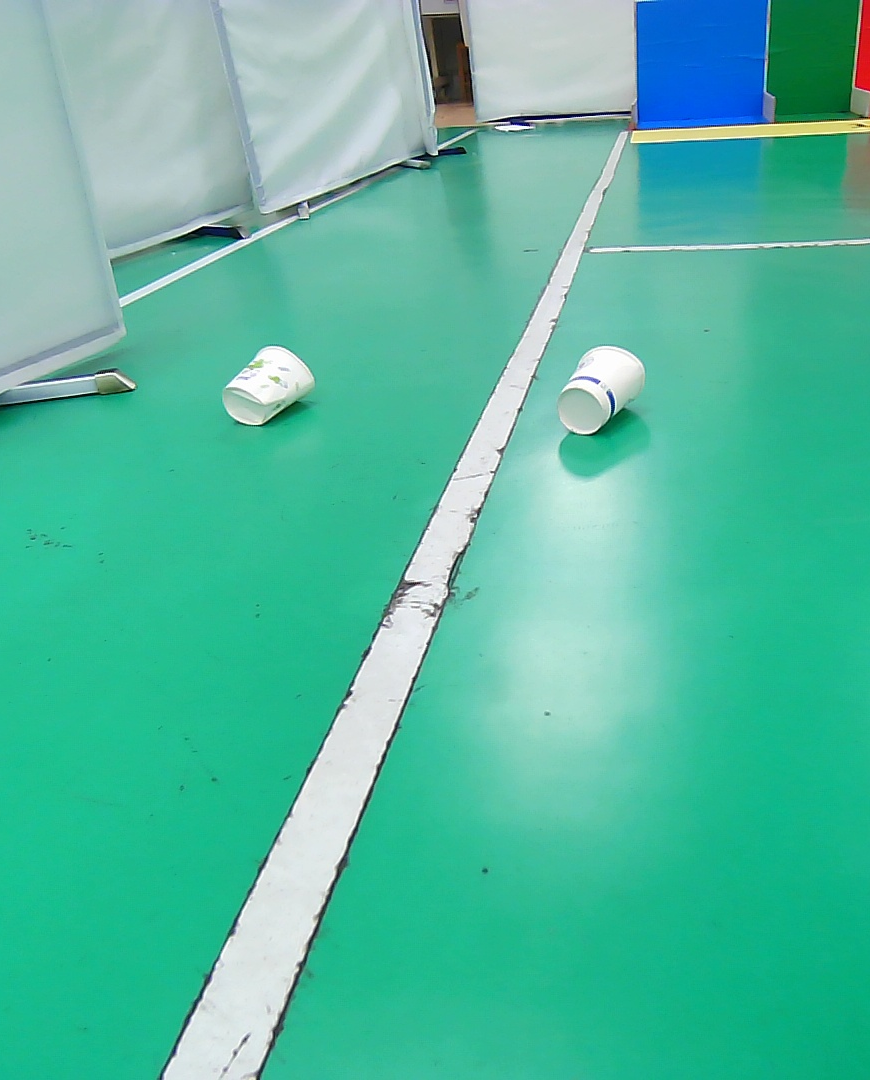papercup: (217, 340, 320, 429), (555, 344, 649, 437)
